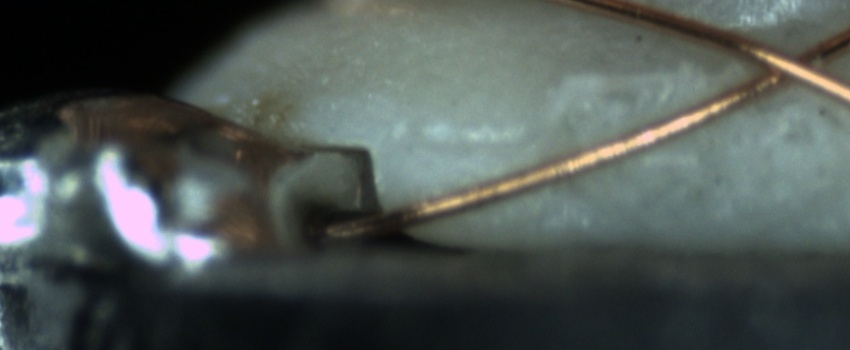CL: (735, 27, 843, 99)
DL: (411, 116, 539, 179)
